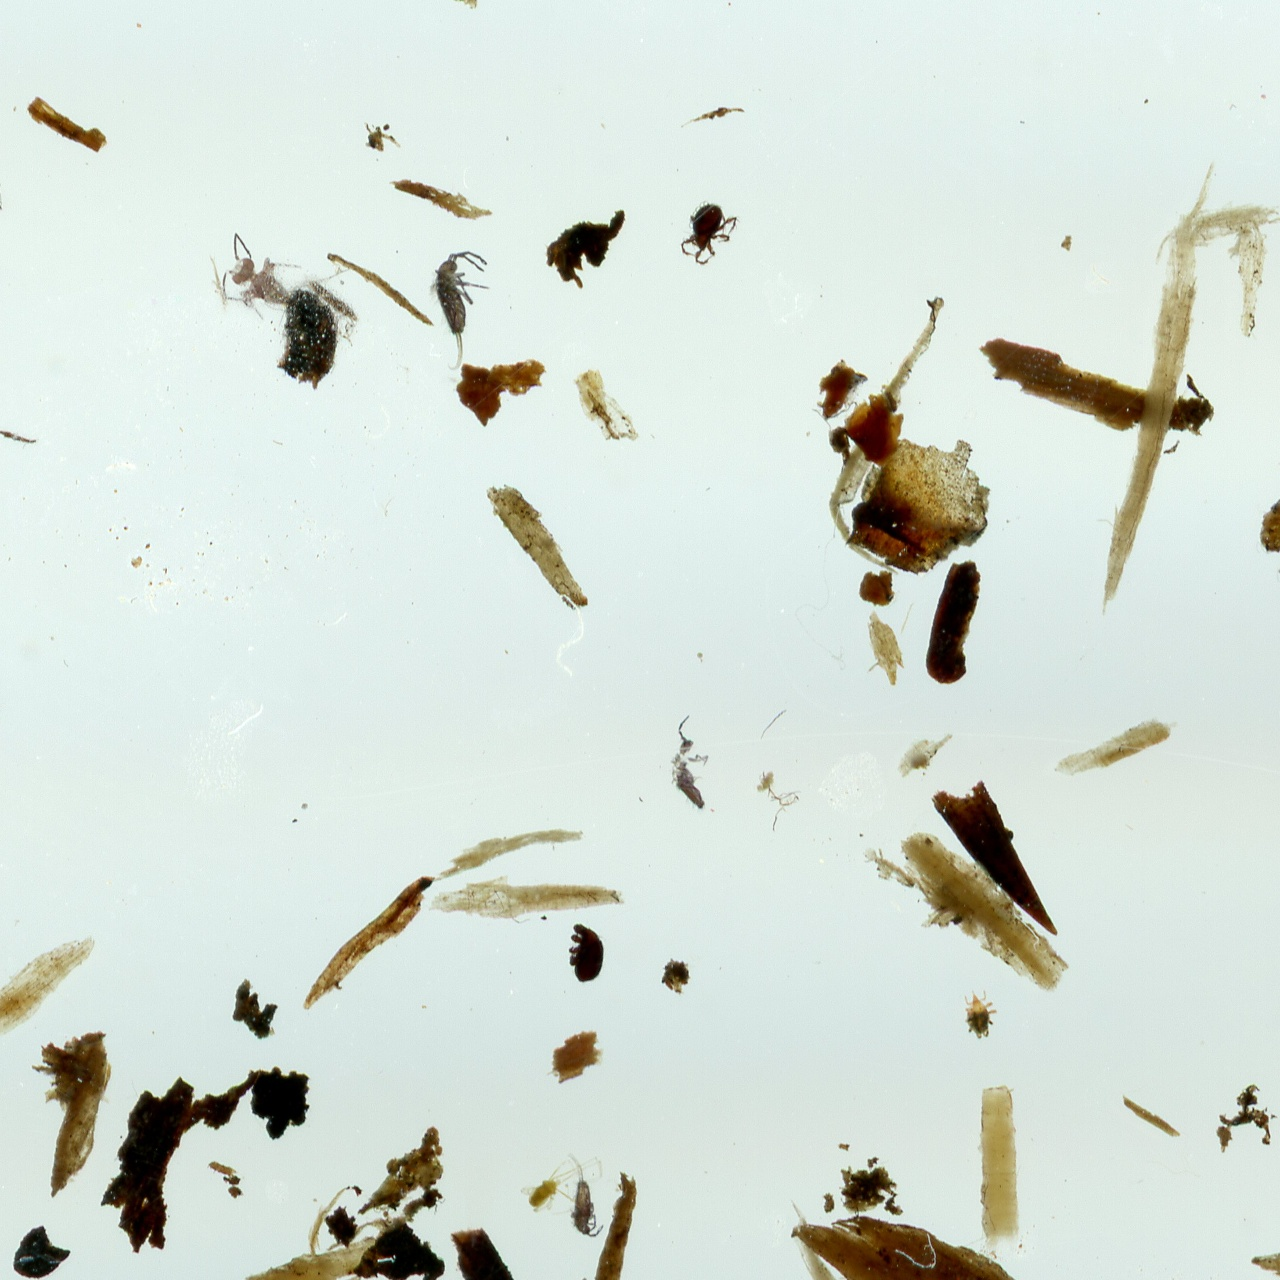arthropod: (196, 218, 320, 340), (511, 1133, 618, 1233), (420, 246, 492, 373), (663, 710, 716, 818), (675, 197, 745, 268), (565, 1149, 607, 1241), (565, 920, 607, 986), (961, 986, 1001, 1042)
